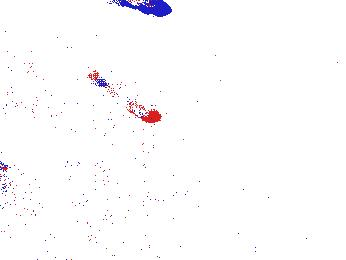redtail glassfish: (90, 71, 160, 124), (94, 1, 170, 18)
